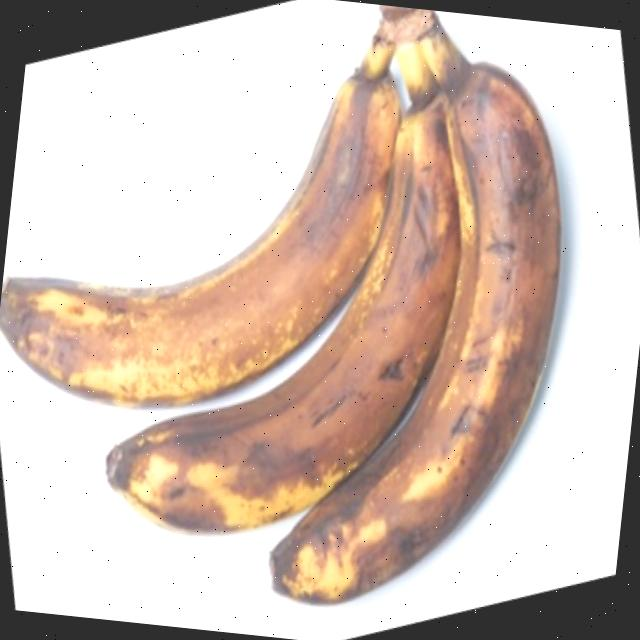rotten banana: (84, 51, 482, 582), (252, 41, 600, 640), (7, 0, 409, 453)
